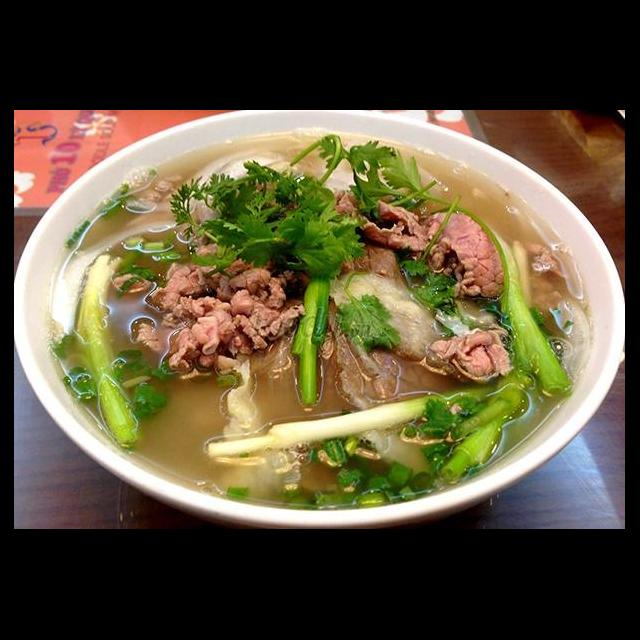banh pho: (124, 144, 294, 235)
pho bo: (18, 140, 626, 530)
thit bo: (127, 245, 306, 392), (328, 186, 514, 304), (321, 294, 476, 414), (416, 323, 518, 388)
